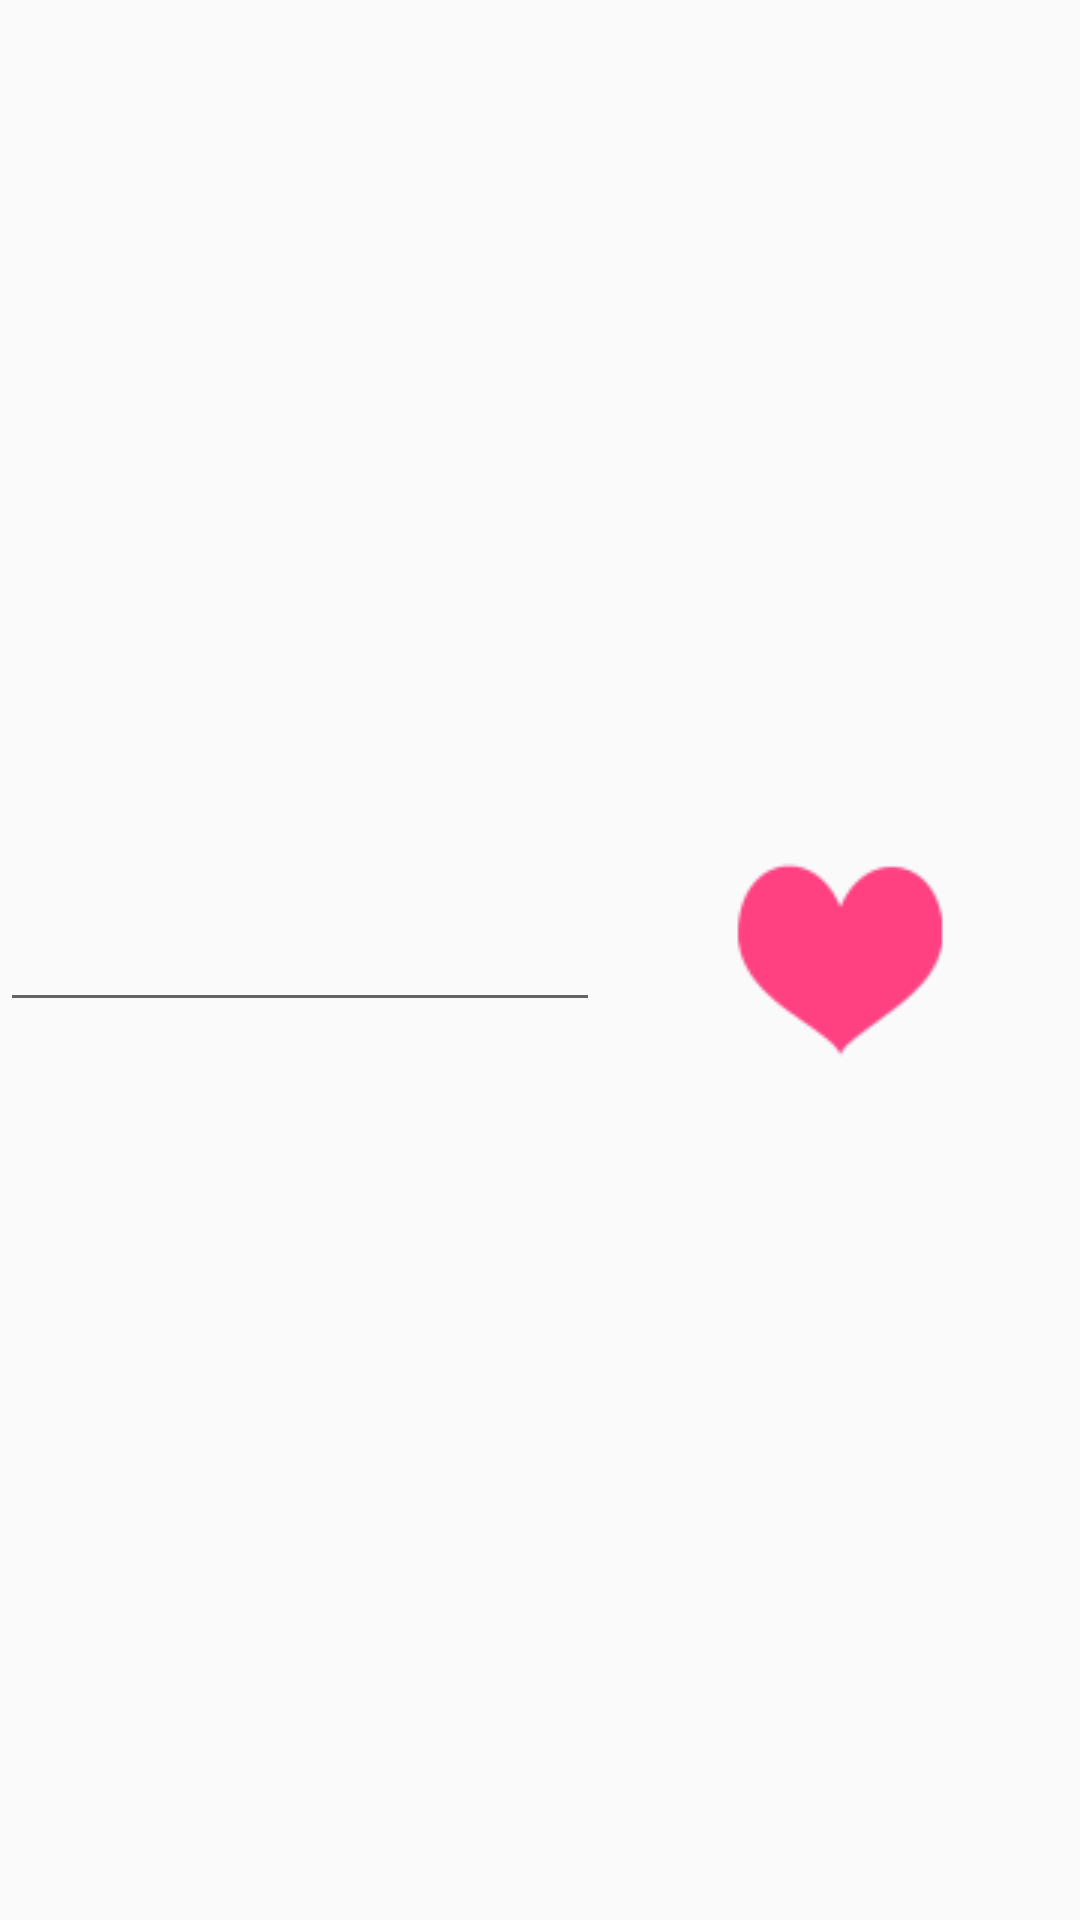

Where icons sit on this 1080*1920 app screen, as (x1, y1, x2, y2):
like: (737, 864, 943, 1055)
